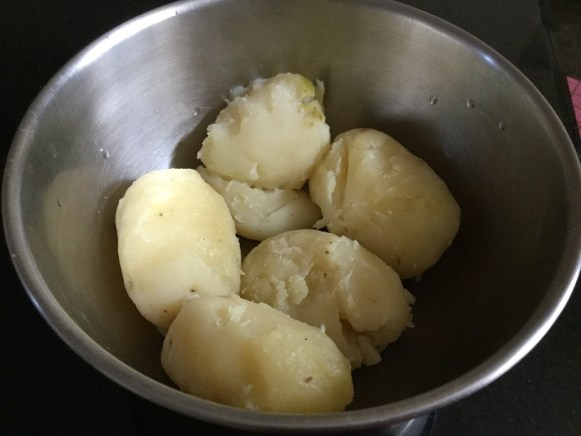boiled potatoes: (323, 128, 450, 275), (179, 299, 348, 409), (120, 177, 246, 311), (249, 237, 397, 341), (213, 81, 330, 190)
